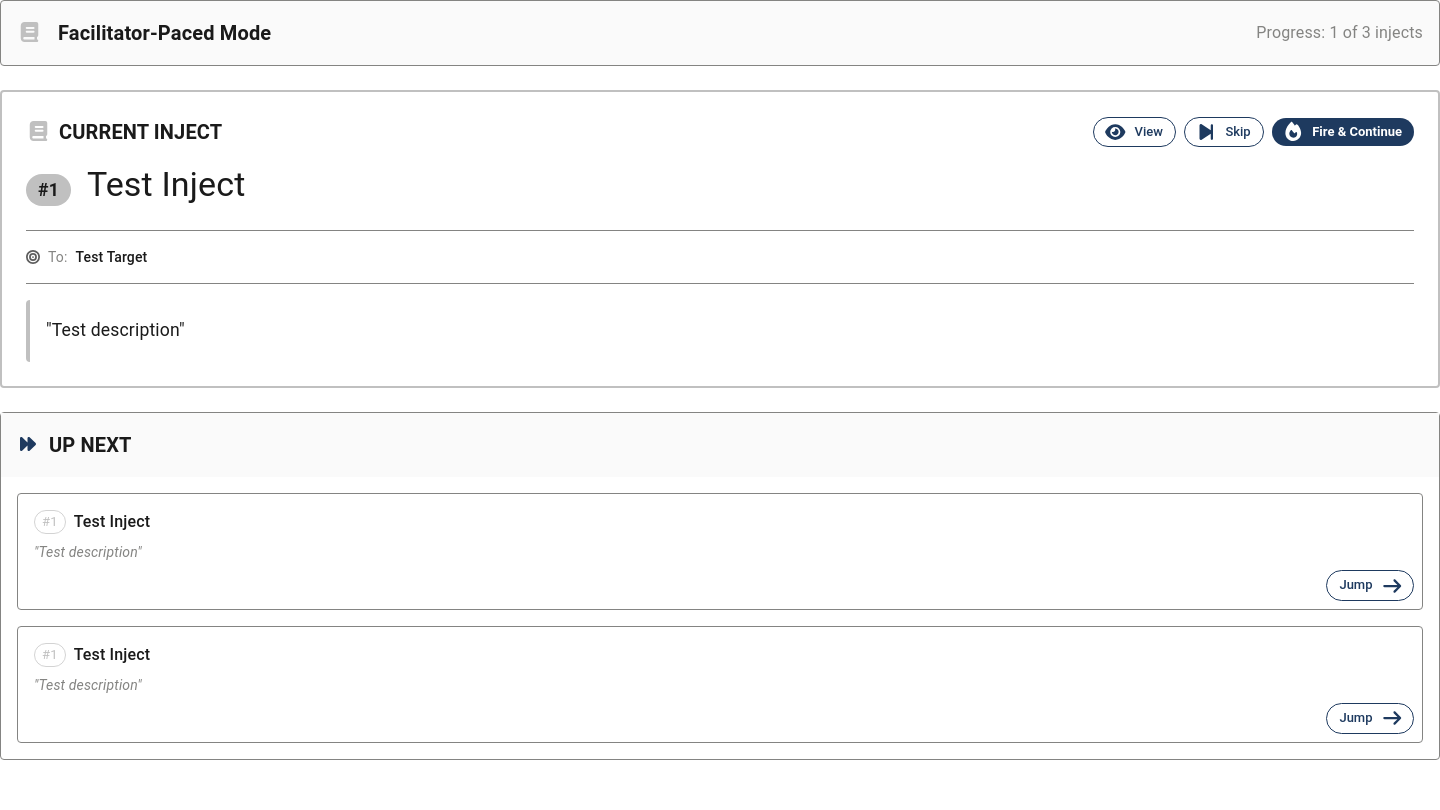
Test case: FacilitatorPacedConductView › opens jump confirmation dialog when Jump clicked
Click Jump on an inject in Up Next
Click the 1st button "Jump" at (1370, 586), box [1326,570,1414,601]
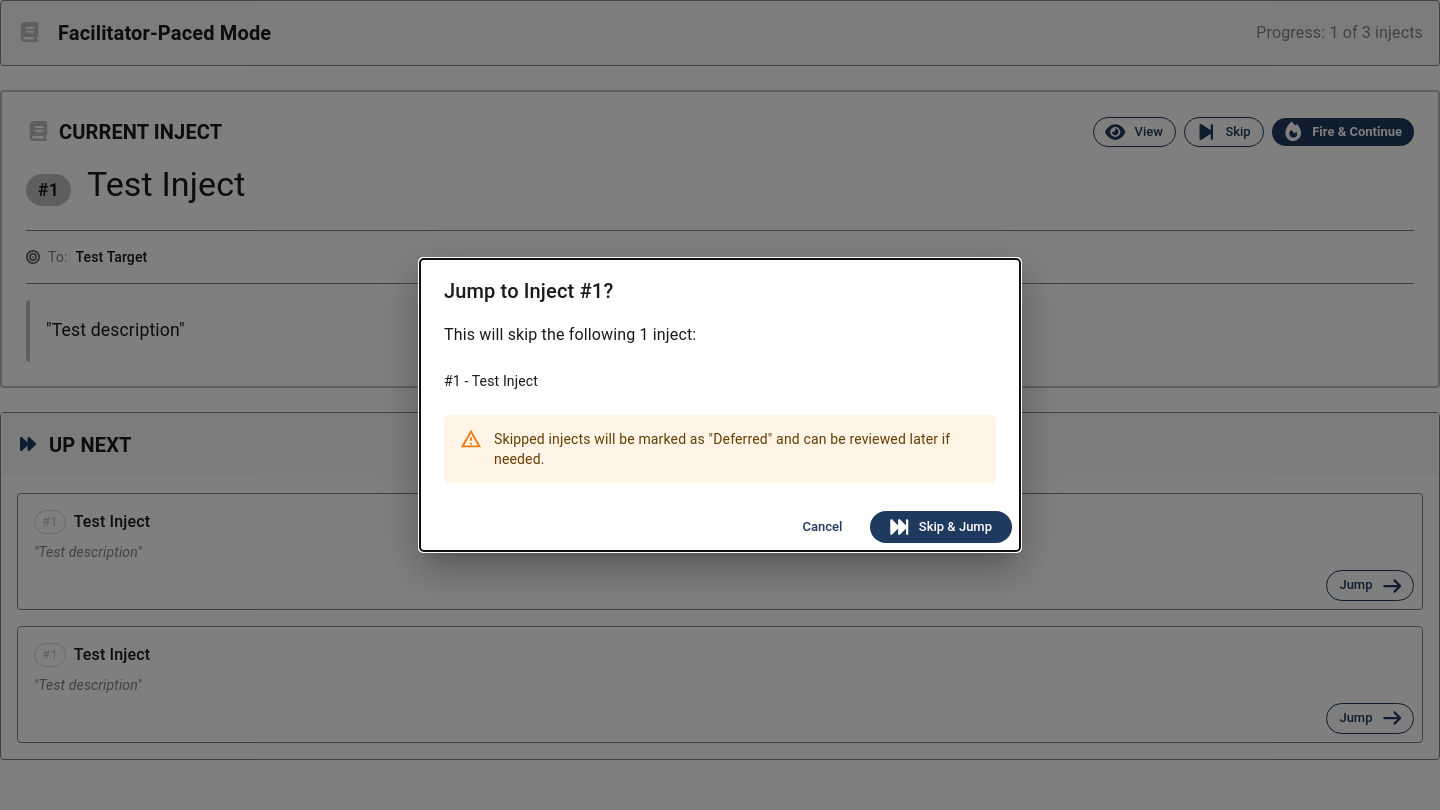
Result: the dialog is shown at [420,259,1020,551]
Result: the heading "Jump to Inject #1?" is shown at [444,279,613,303]
